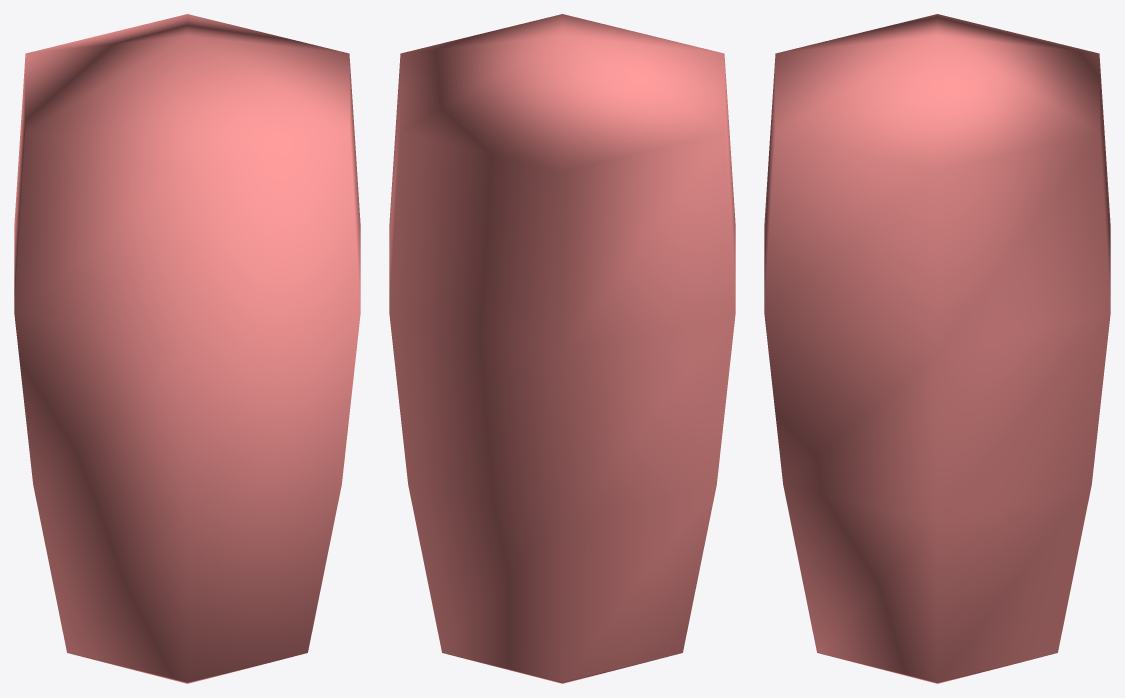
Rendered from entity822420.gltf.
3 views of the same model, side by side, from view 1: azimuth 30°, elevation 25°; view 2: azimuth 150°, elevation 25°; view 3: azimuth 270°, elevation 25° (orthographic).
Visible parts, largest first — view 1: node_mesh_butterfly_03; view 2: node_mesh_butterfly_03; view 3: node_mesh_butterfly_03.
Boxes of the visible parts, x1,y1,x2,y2 form: node_mesh_butterfly_03: [14, 14, 360, 683]; node_mesh_butterfly_03: [389, 14, 735, 683]; node_mesh_butterfly_03: [764, 14, 1110, 683].
Bounding box in the file's own units: 1.37 × 2.44 × 1.18.
